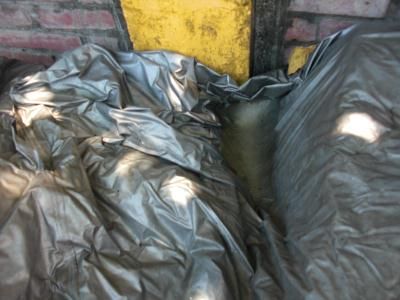plastic_bag: (1, 42, 399, 299)
